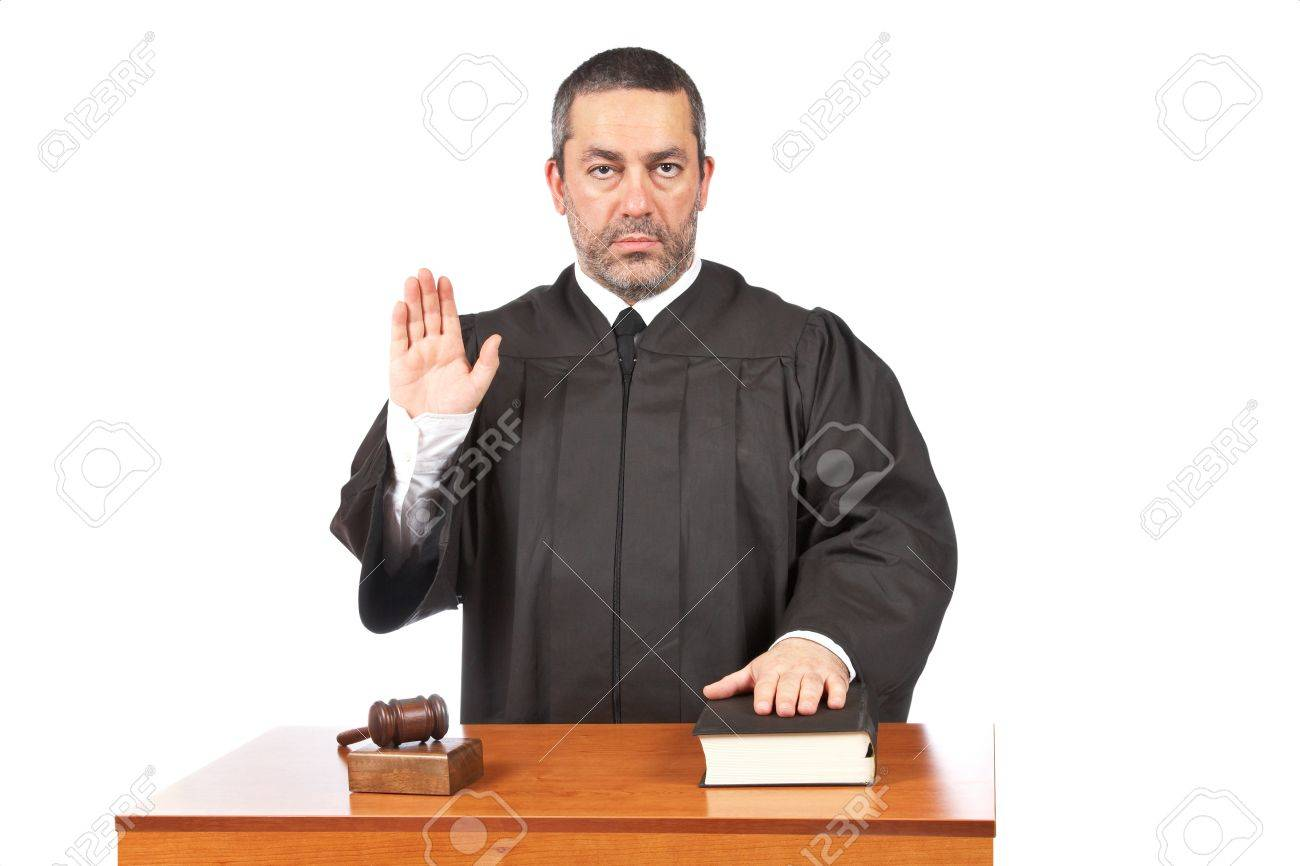open_hand: (365, 255, 514, 427)
